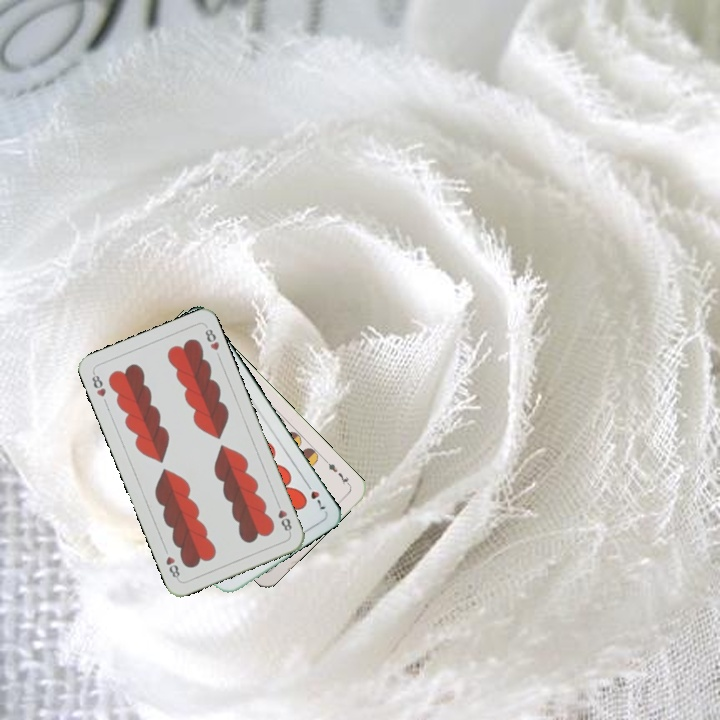E7: (321, 456, 353, 488)
H7: (301, 478, 328, 514)
H8: (272, 497, 294, 536), (88, 368, 109, 399)
